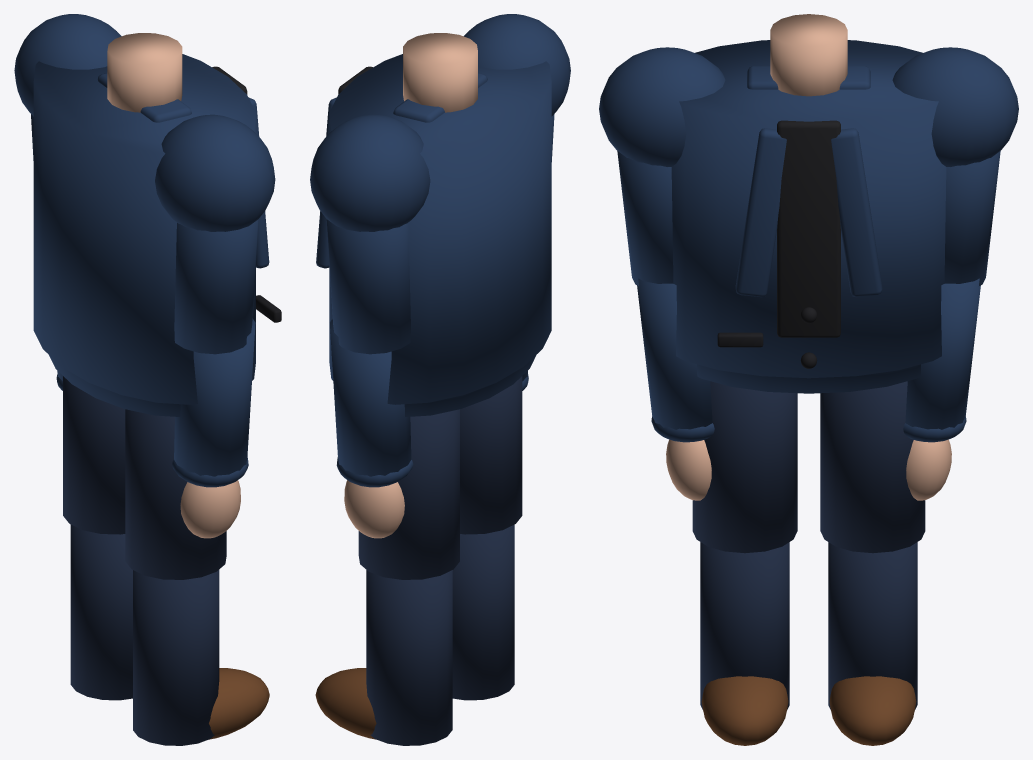
File: bukele_body.glb
3 views of the same model, side by side, from view 1: azimuth 30°, elevation 25°; view 2: azimuth 150°, elevation 25°; view 3: azimuth 270°, elevation 25° (orthographic). The views are drawn at different scales.
Visible parts, largest first — view 1: Torso, LegR, ArmR, LegL; view 2: Torso, LegL, ArmL, LegR; view 3: Torso, LegL, LegR, ArmL, ArmR.
Boxes of the visible parts, x1,y1,x2,y2 form: Torso: (14,14,281,416); LegR: (125,409,269,745); ArmR: (172,219,258,538); LegL: (63,376,132,700); Torso: (310,14,570,416); LegL: (315,409,459,745); ArmL: (326,219,413,538); LegR: (452,376,522,700); Torso: (599,14,1018,393); LegL: (820,381,925,745); LegR: (692,381,797,745); ArmL: (903,151,1000,500); ArmR: (617,151,714,500).
Size of the model in its own units: 0.466 by 1.66 by 0.92.
